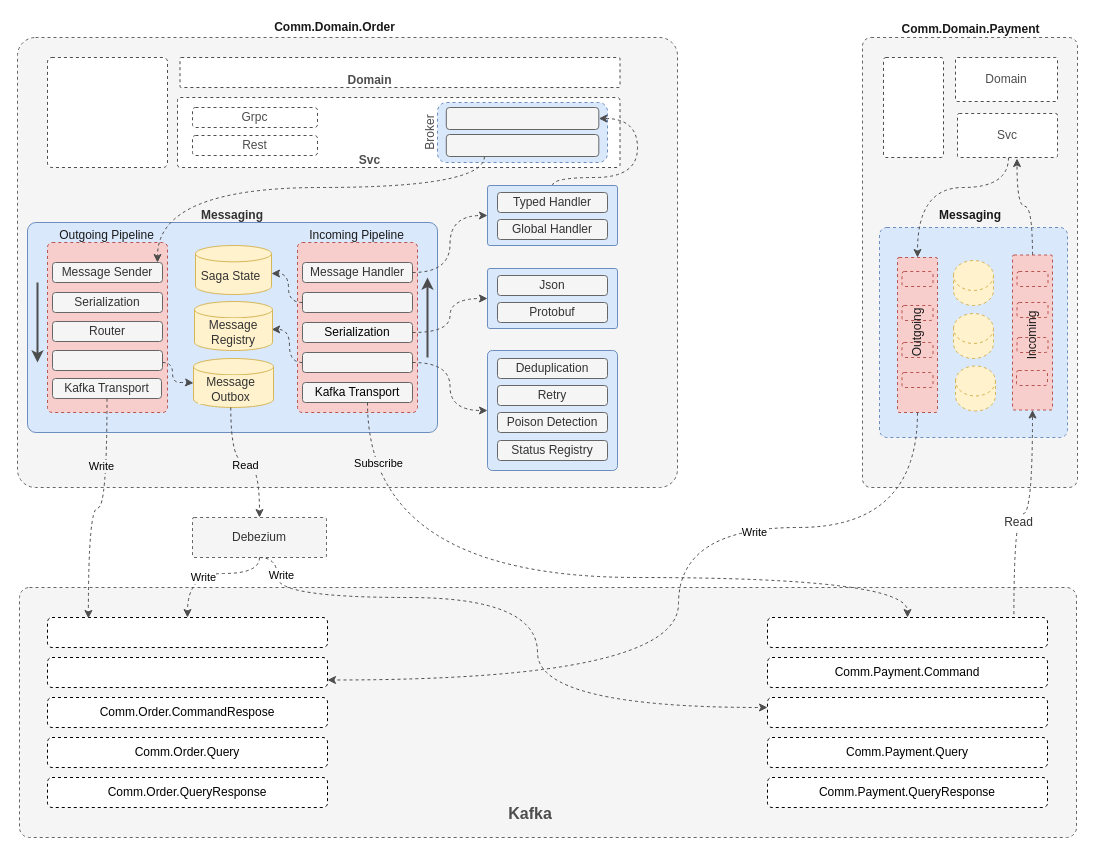
This 1095x855 diagram has some shape labels left out. The shapes that lost their labels are listed below. From the top down, each one's centre as x and y in pixels, then its label:
At pixel 107 112: "Infrastructure".
At pixel 522 118: "PaymentCompletedHandler".
At pixel 913 107: "Infra".
At pixel 522 145: "MessageSender".
At pixel 357 302: "Saga Cordinator".
At pixel 107 360: "Outbox Transport".
At pixel 357 362: "Message Gateway".
At pixel 187 632: "Comm.Order.Event".
At pixel 907 632: "Comm.Payment.Event".
At pixel 187 672: "Comm.Order.Command".
At pixel 907 712: "Comm.Payment.CommandRespose".
